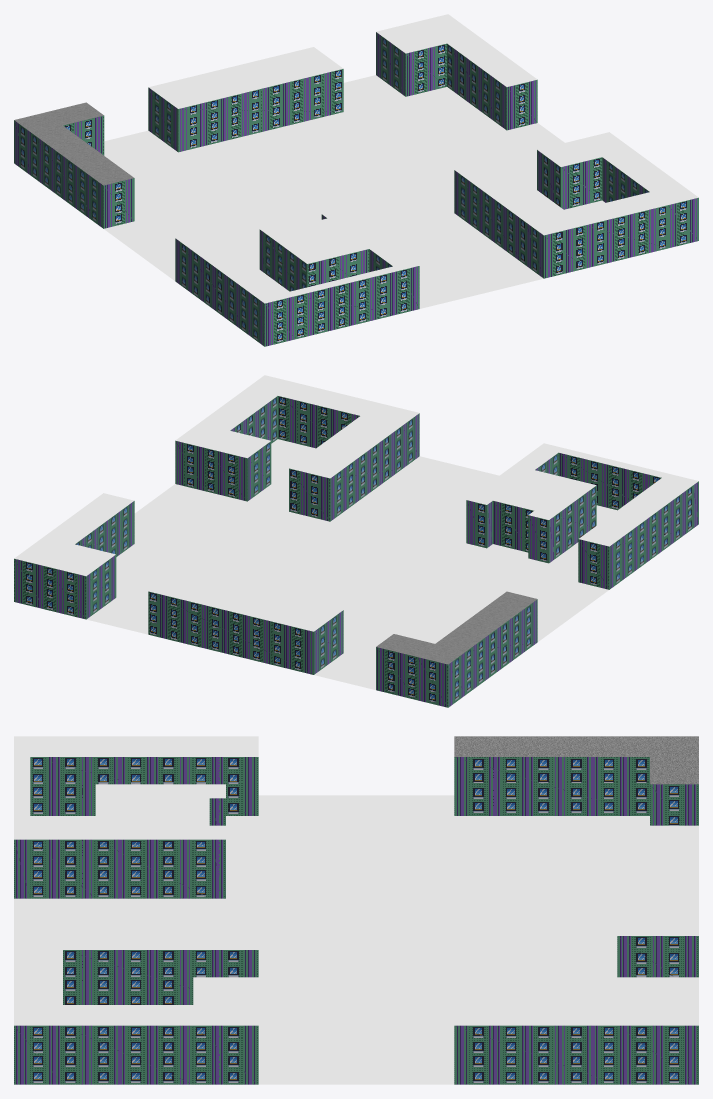
3 renders of one model, top to bottom at view 1: azimuth 30°, elevation 25°; view 2: azimuth 150°, elevation 25°; view 3: azimuth 270°, elevation 25°, orthographic. The views are drawn at different scales.
Parts seen in each view (by area): view 1: Plane, Building4, Building5, Building2, Building3, Building1; view 2: Plane, Building4, Building5, Building2, Building1, Building3; view 3: Plane, Building4, Building5, Building3, Building1, Building2.
Part boxes in pixels (x1,y1,x2,y2): Plane: [104, 75, 605, 308]; Building4: [454, 132, 698, 278]; Building5: [175, 209, 419, 346]; Building2: [148, 47, 343, 152]; Building3: [376, 14, 537, 130]; Building1: [14, 102, 134, 228]; Plane: [86, 439, 616, 689]; Building4: [175, 375, 419, 521]; Building5: [466, 443, 698, 589]; Building2: [148, 569, 343, 674]; Building1: [376, 591, 537, 707]; Building3: [14, 493, 134, 619]; Plane: [14, 795, 649, 1084]; Building4: [14, 922, 258, 1084]; Building5: [14, 736, 258, 898]; Building3: [454, 977, 698, 1084]; Building1: [454, 736, 698, 825]; Building2: [617, 825, 698, 977].
Bounding box in the file's own units: 420 × 40 × 420.
8 materials, 6 textured.
